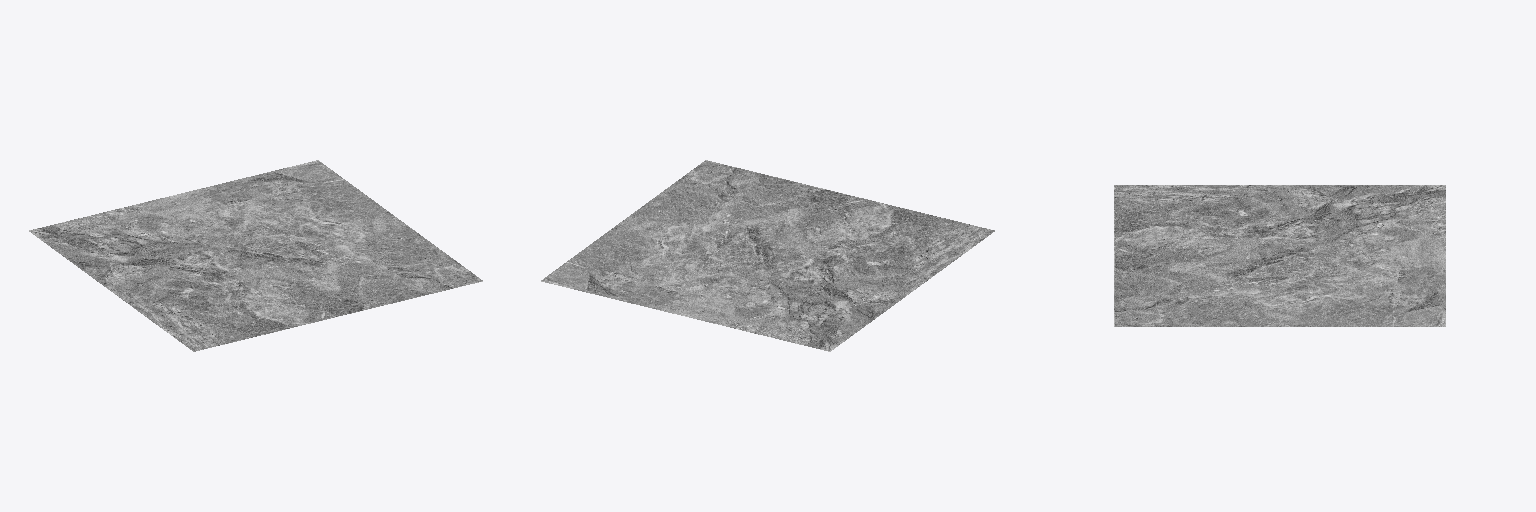
3 renders of one model, left to right at view 1: azimuth 30°, elevation 25°; view 2: azimuth 150°, elevation 25°; view 3: azimuth 270°, elevation 25°, orthographic.
Parts seen in each view (by area): view 1: Plane.001; view 2: Plane.001; view 3: Plane.001.
Part boxes in pixels (bbox=[...]): Plane.001: bbox=[29, 160, 482, 351]; Plane.001: bbox=[541, 160, 994, 351]; Plane.001: bbox=[1114, 185, 1445, 326].
Bounding box in the file's own units: 98.23 × 0 × 97.15.
1 materials, 1 textured.